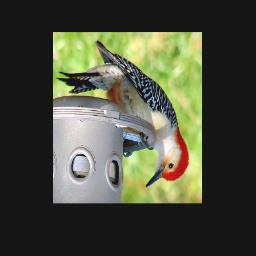Woodpecker: (56, 39, 189, 187)
